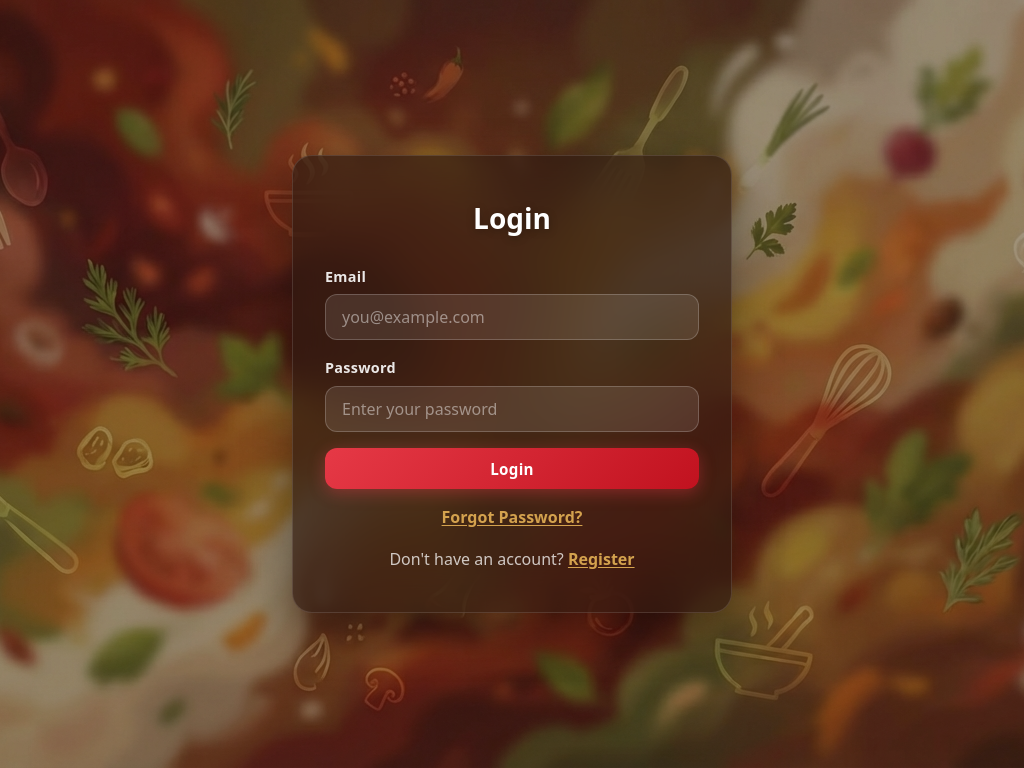
Login › shows password validation error for weak password
The width and height of the screenshot is (1024, 768).
Type "weak" into the password field with placeholder "Enter your password" at (512, 409), box [325, 386, 699, 432]
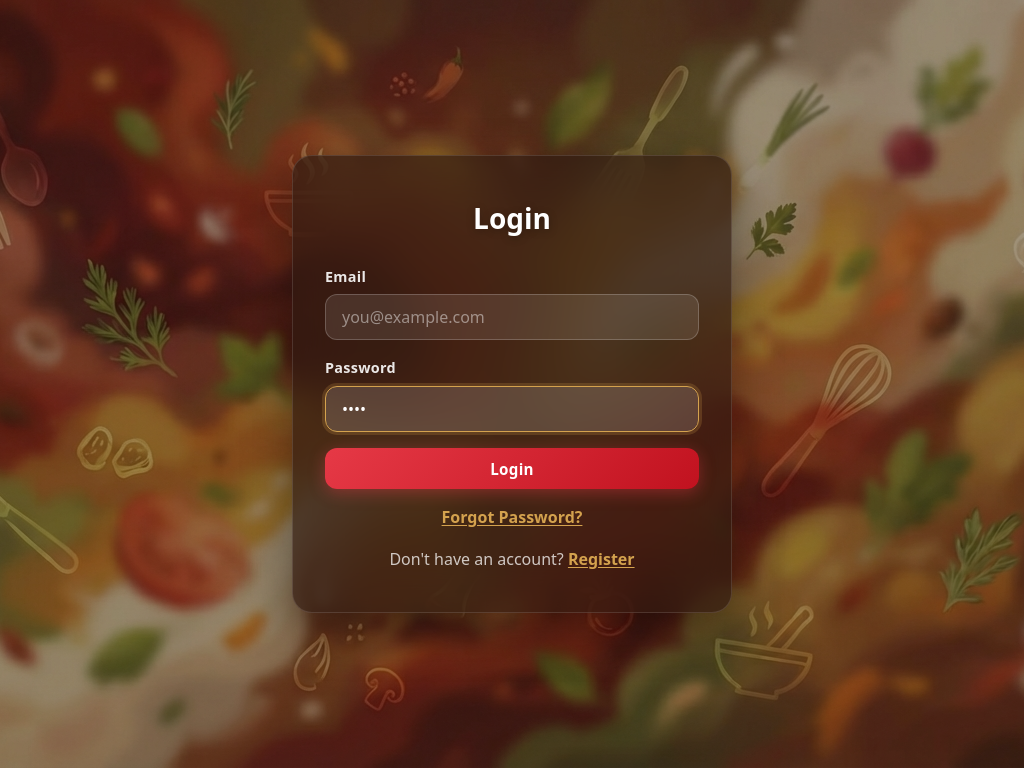
Press Tab
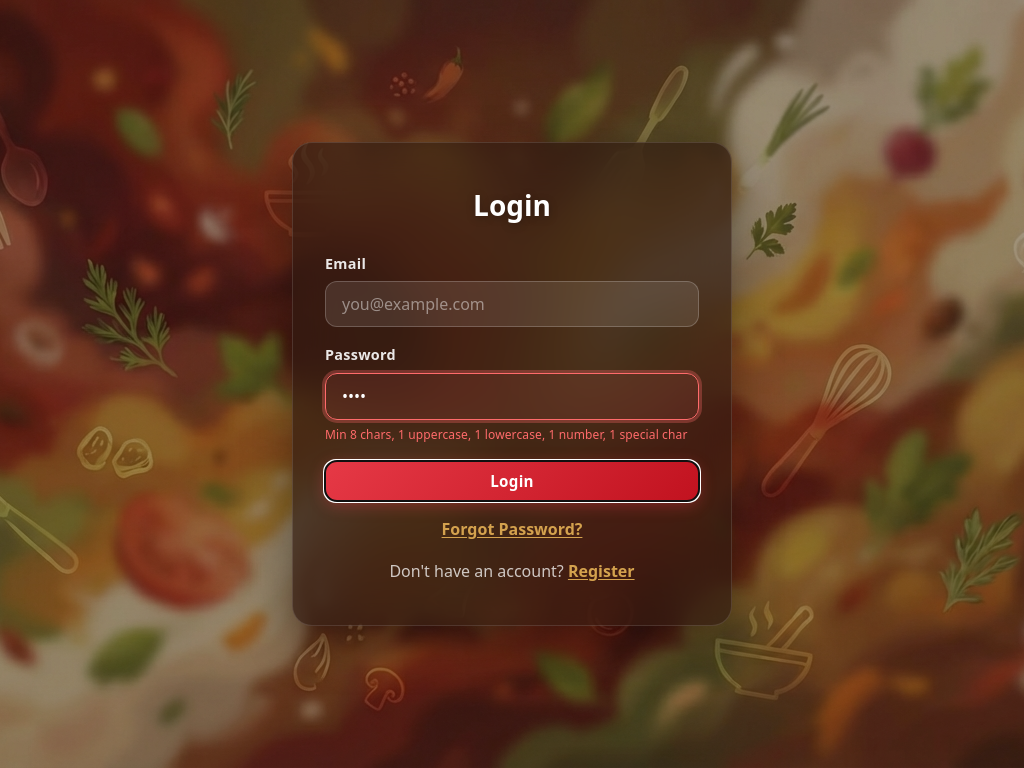
Expected: the text "Min 8 chars, 1 uppercase, 1 lowercase, 1 number, 1 special char" is shown, [325, 425, 699, 445]
